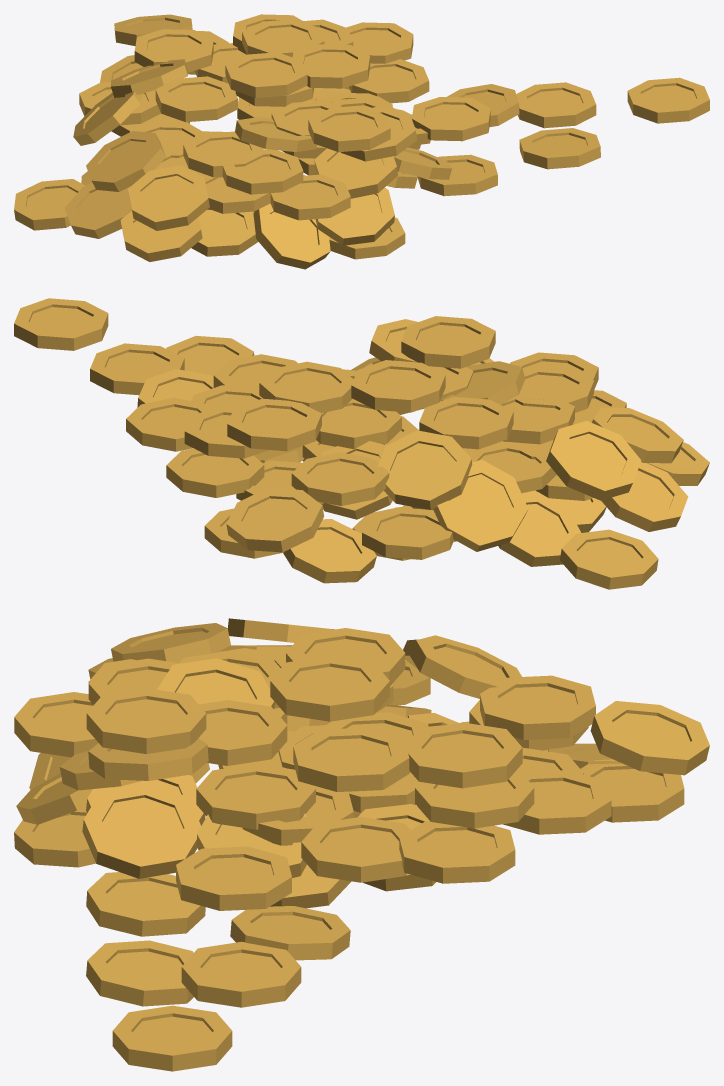
Rendered from Coins5.fbx.
3 views of the same model, one above another, from view 1: azimuth 30°, elevation 25°; view 2: azimuth 150°, elevation 25°; view 3: azimuth 270°, elevation 25° (orthographic). The views are drawn at different scales.
Visible parts, largest first — view 1: mountain of coins M; view 2: mountain of coins M; view 3: mountain of coins M.
Part boxes in pixels (x1,y1,x2,y2): mountain of coins M: (14,14,709,269); mountain of coins M: (14,298,709,589); mountain of coins M: (14,618,709,1071).
Size of the model in its own units: 0.6374 by 0.1103 by 0.4285.
